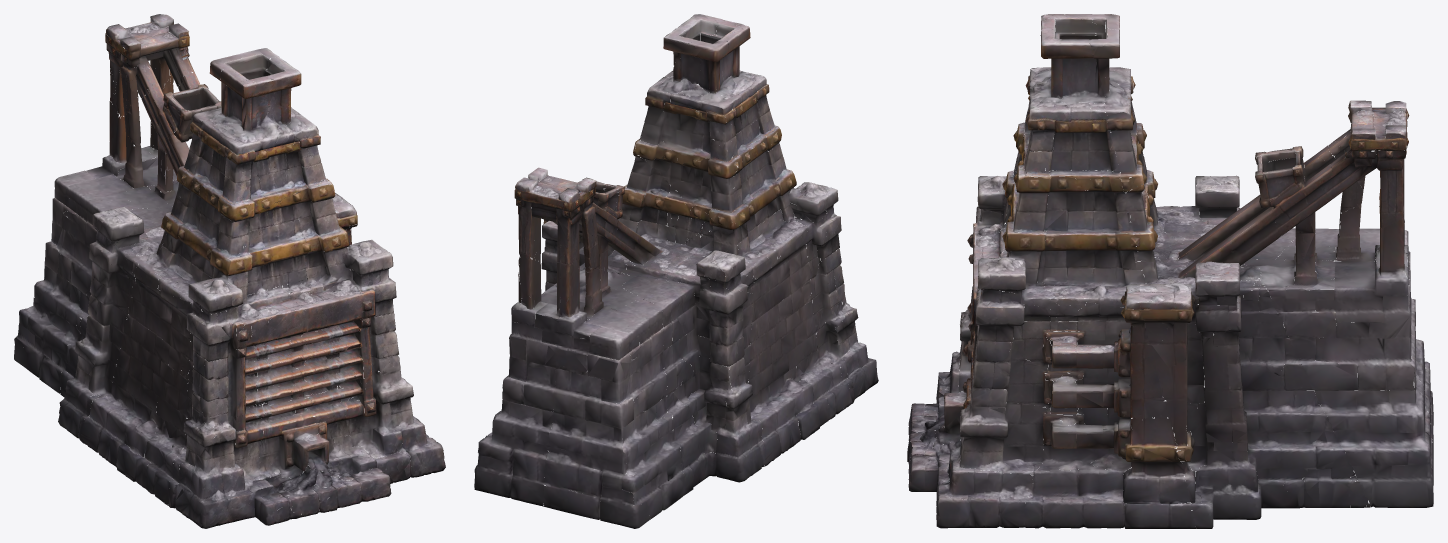
The model's file is firstfurnace.glb.
3 views of the same model, side by side, from view 1: azimuth 30°, elevation 25°; view 2: azimuth 150°, elevation 25°; view 3: azimuth 270°, elevation 25° (orthographic). The views are drawn at different scales.
Visible parts, largest first — view 1: tripo_node_11dfcb69-7cba-4b01-8cbd-2635e96c3f91; view 2: tripo_node_11dfcb69-7cba-4b01-8cbd-2635e96c3f91; view 3: tripo_node_11dfcb69-7cba-4b01-8cbd-2635e96c3f91.
Part boxes in pixels (x1=…): tripo_node_11dfcb69-7cba-4b01-8cbd-2635e96c3f91: x1=14, y1=14, x2=445, y2=528; tripo_node_11dfcb69-7cba-4b01-8cbd-2635e96c3f91: x1=474, y1=14, x2=878, y2=528; tripo_node_11dfcb69-7cba-4b01-8cbd-2635e96c3f91: x1=907, y1=14, x2=1433, y2=528.
Bounding box in the file's own units: 0.5948 × 0.8865 × 0.9791.
Materials: 1 (1 with a texture image).
